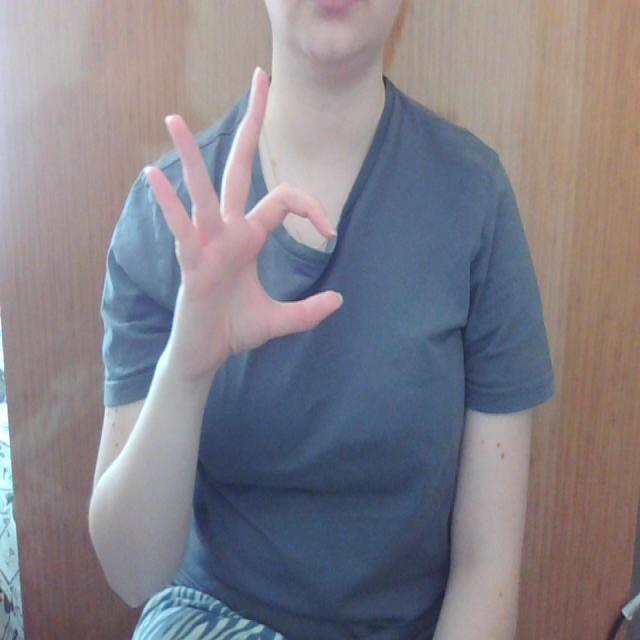Tuvalet: (126, 48, 356, 370)
